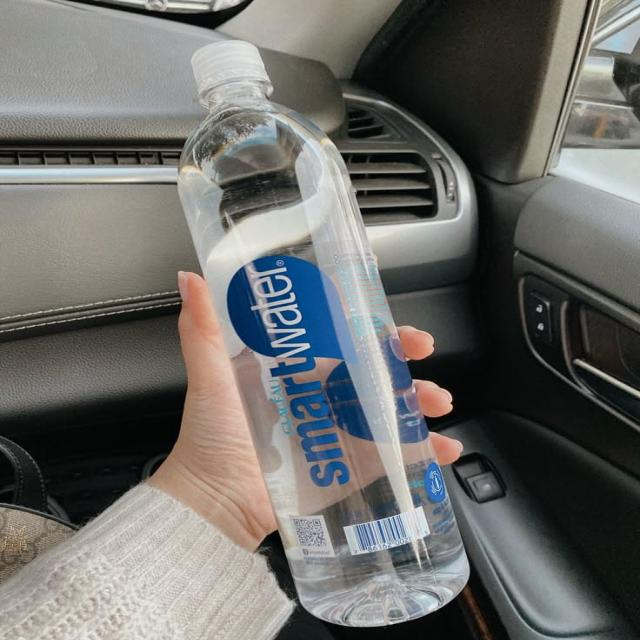bottle: (181, 21, 515, 628)
